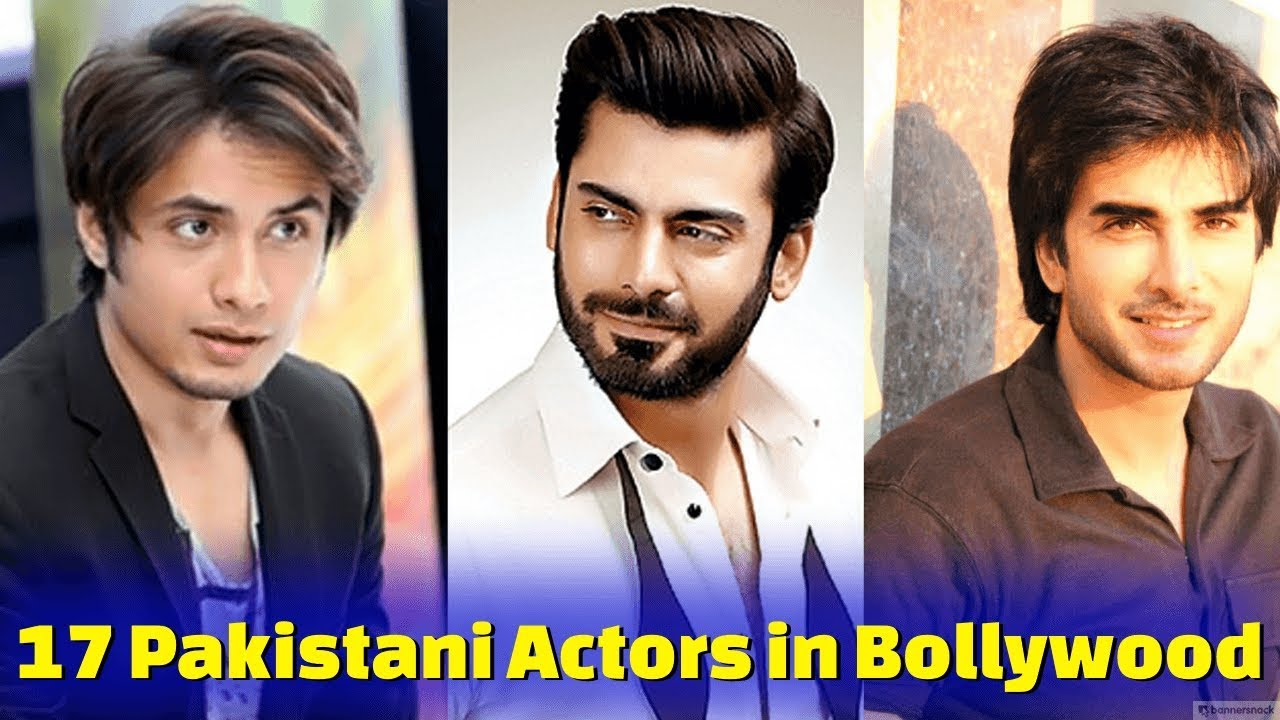NoMask: (148, 177, 338, 390), (572, 172, 743, 400), (1081, 186, 1247, 399)
